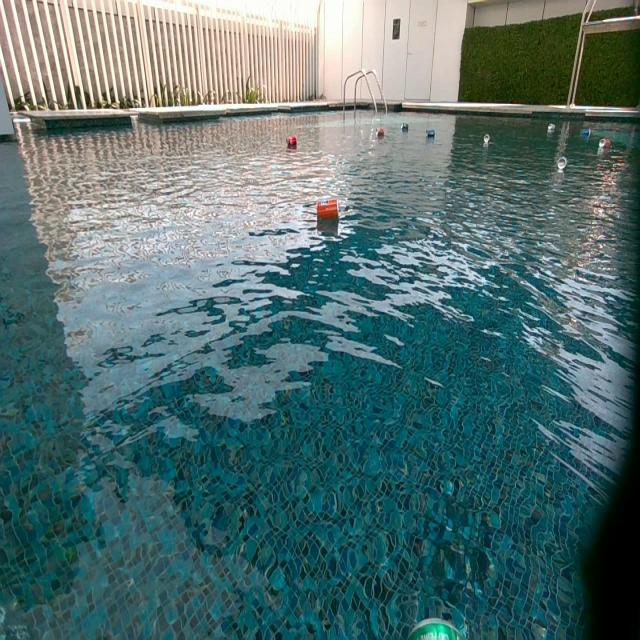Cans: (404, 614, 466, 640), (316, 198, 338, 222), (558, 157, 567, 171), (425, 129, 436, 140), (286, 136, 296, 148), (376, 128, 386, 140), (600, 138, 612, 148), (483, 134, 492, 147), (581, 130, 592, 140), (545, 122, 555, 130), (399, 122, 408, 130)
